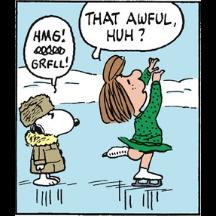snoopy: (19, 92, 81, 188)
